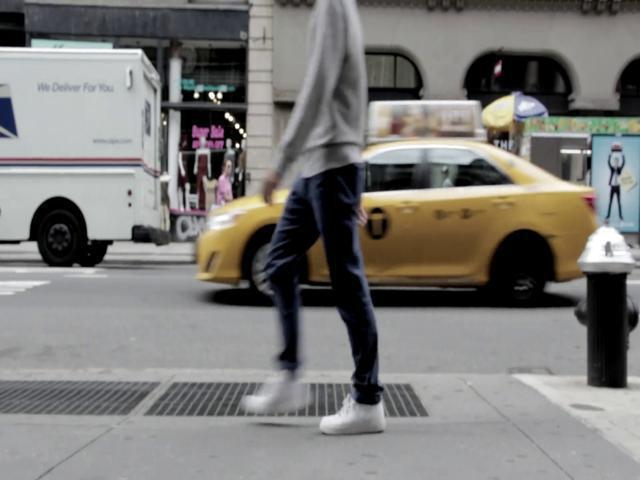shoe: (321, 394, 386, 435)
